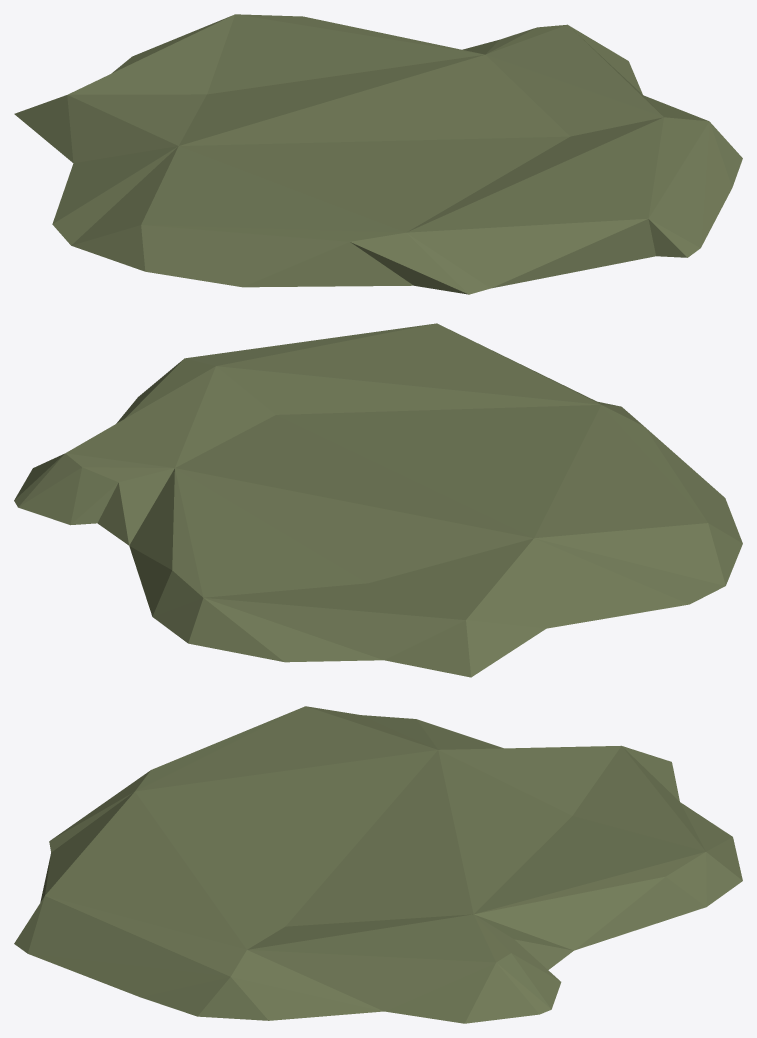
File: synty-terrain-swamp-growth-03.gltf
3 renders of one model, top to bottom at view 1: azimuth 30°, elevation 25°; view 2: azimuth 150°, elevation 25°; view 3: azimuth 270°, elevation 25°, orthographic. The views are drawn at different scales.
Parts seen in each view (by area): view 1: SM_Terrain_Swamp_Growth_03; view 2: SM_Terrain_Swamp_Growth_03; view 3: SM_Terrain_Swamp_Growth_03.
Boxes of the visible parts, x1=… form: SM_Terrain_Swamp_Growth_03: x1=14, y1=14, x2=742, y2=294; SM_Terrain_Swamp_Growth_03: x1=14, y1=323, x2=742, y2=677; SM_Terrain_Swamp_Growth_03: x1=14, y1=706, x2=742, y2=1023.
Size of the model in its own units: 2.18 by 0.1275 by 2.17.
Materials: 1 (1 with a texture image).
